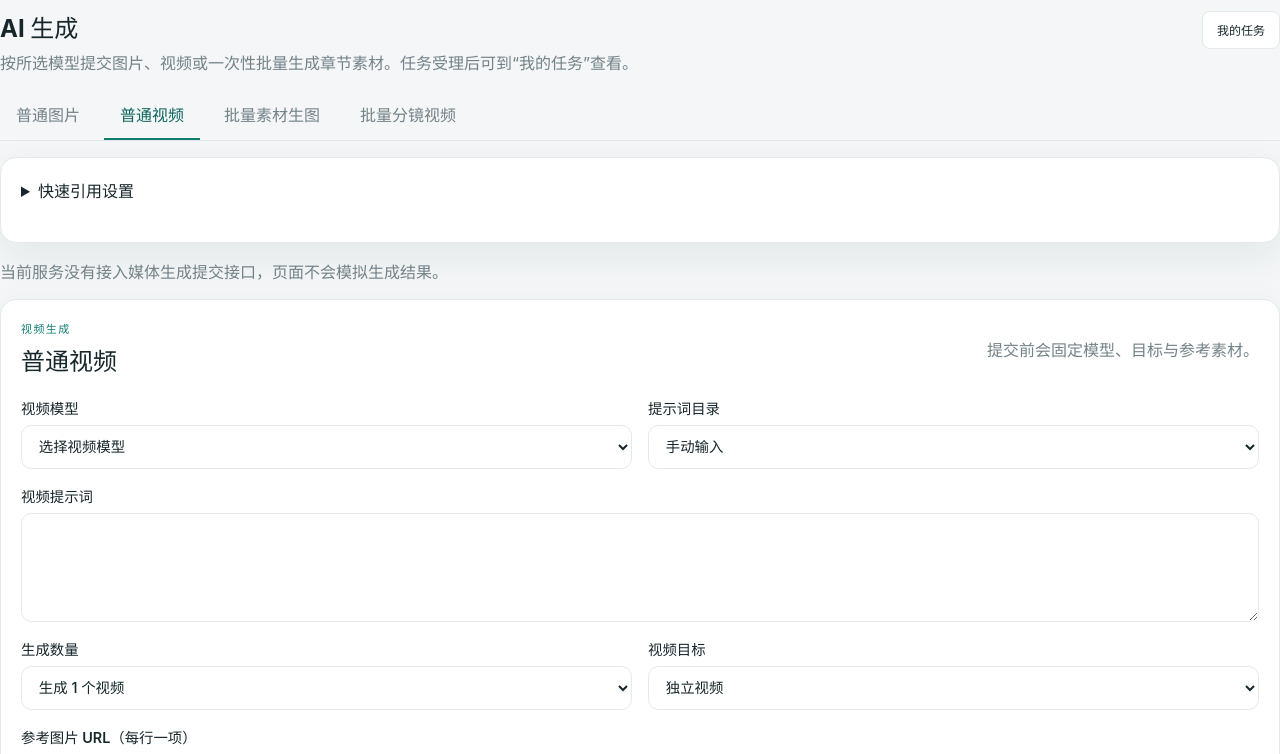
Test: MediaGenerationPage › restores a category mode into the existing image form and remembers its count
Select "章节素材消息" in the dropdown labelled "视频目标": [954, 688] box [648,666,1259,710]
(page scrolled)
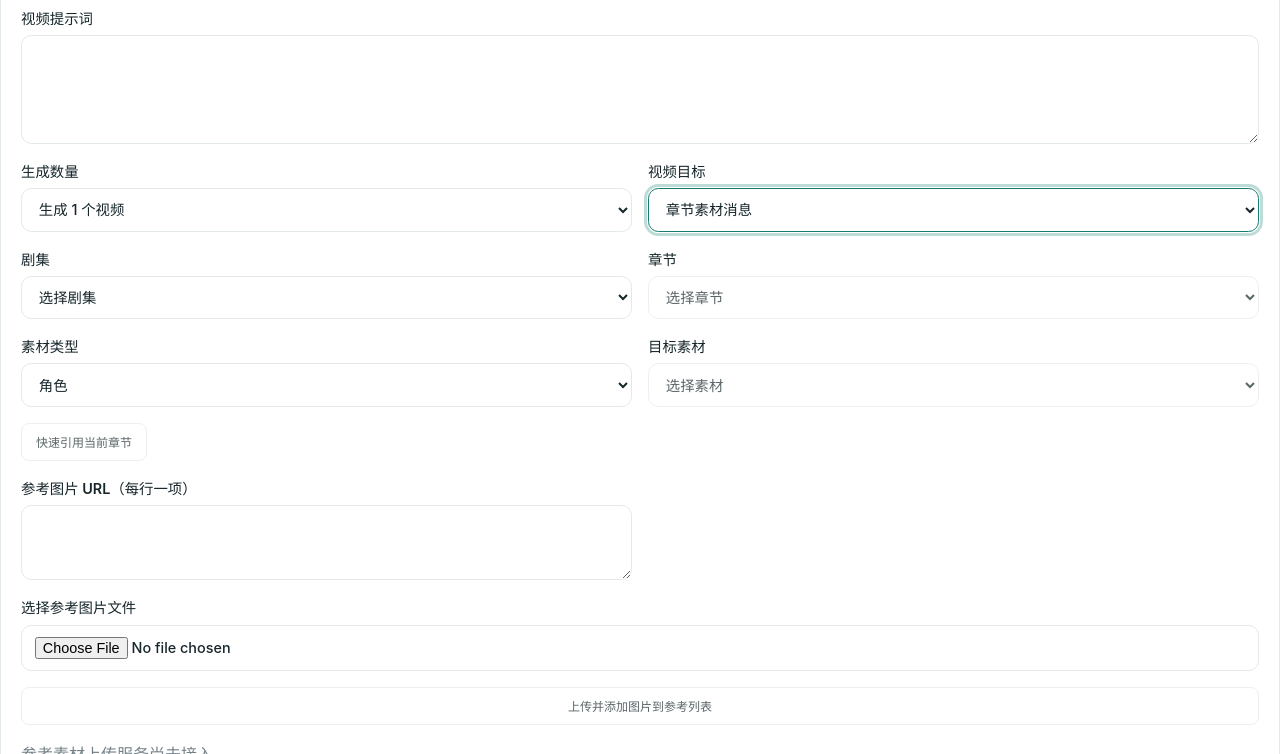
Select "场景" in the dropdown labelled "素材类型": [326, 385] box [21,363,632,407]
(page scrolled)
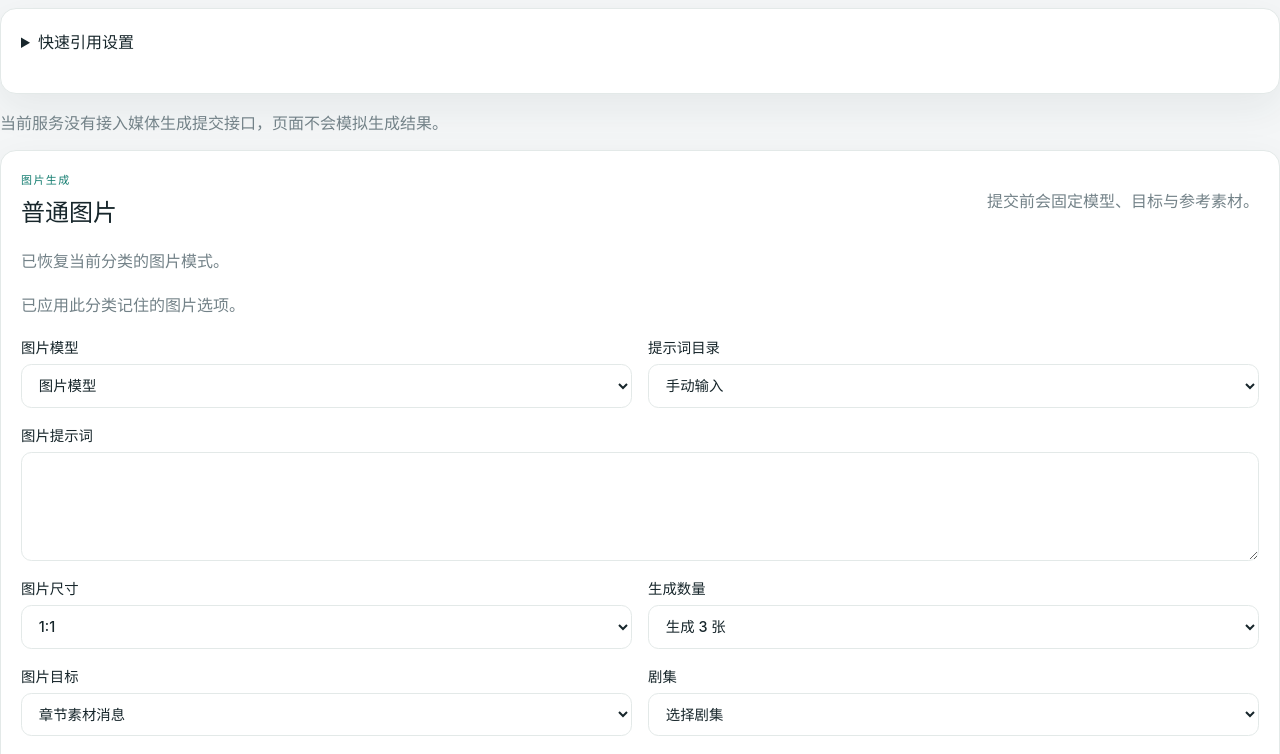
Check: the dropdown labelled "生成数量" shows "生成 3 张", box [648,605,1259,649]
Check: the text "已恢复当前分类的图片模式。" is shown, box [21,251,229,271]
Select "场景图片模型" in the dropdown labelled "图片模型": [326, 386] box [21,364,632,408]
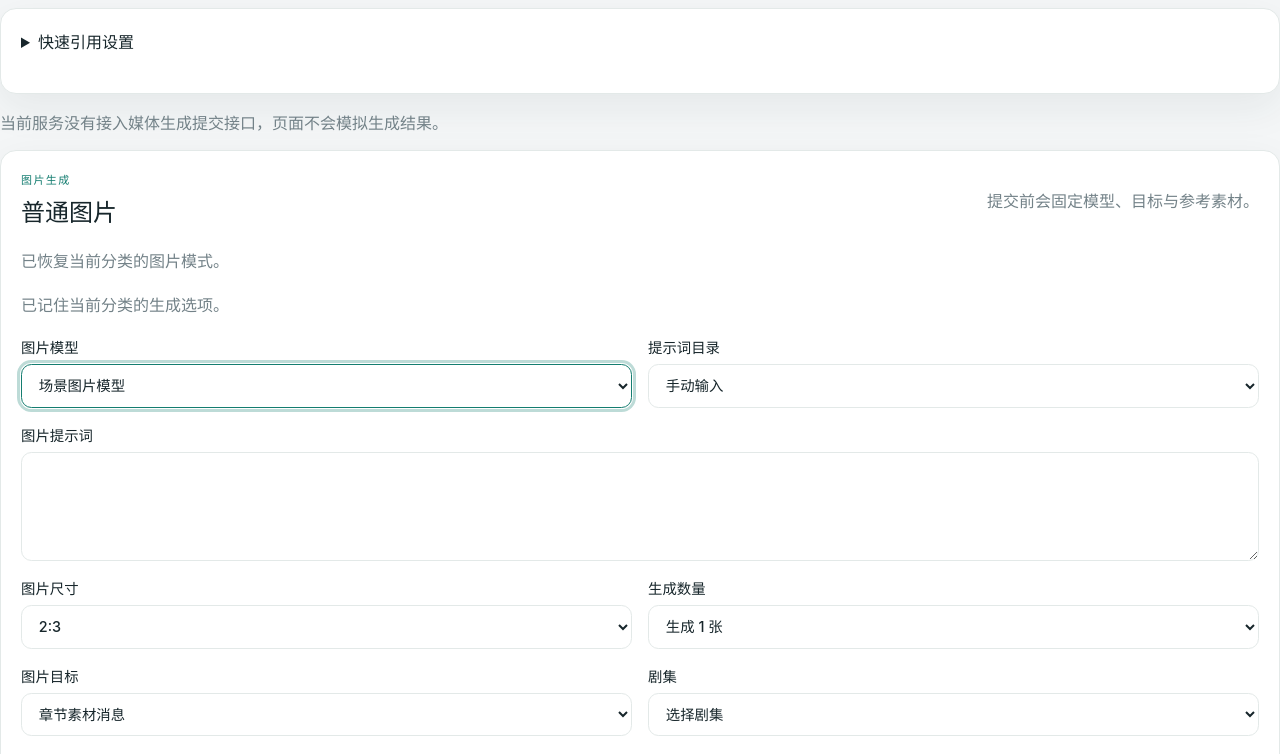
Check: the dropdown labelled "生成数量" shows "生成 1 张", box [648,605,1259,649]
